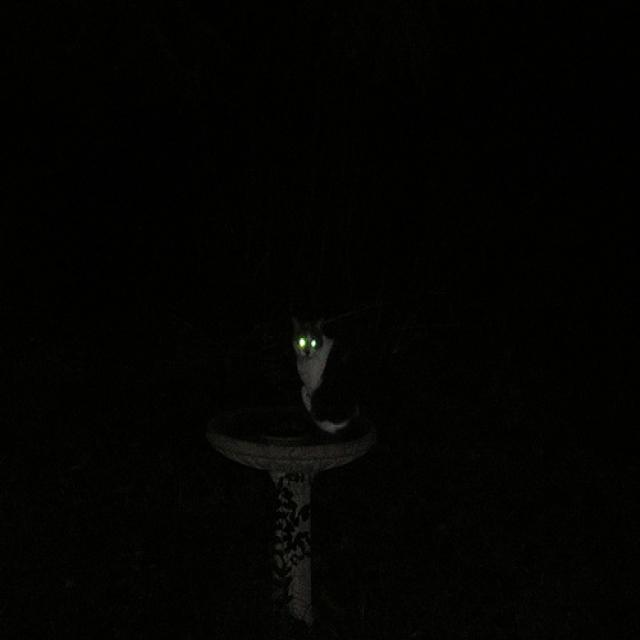Cat: (272, 302, 376, 440)
Table: (178, 389, 426, 640)
